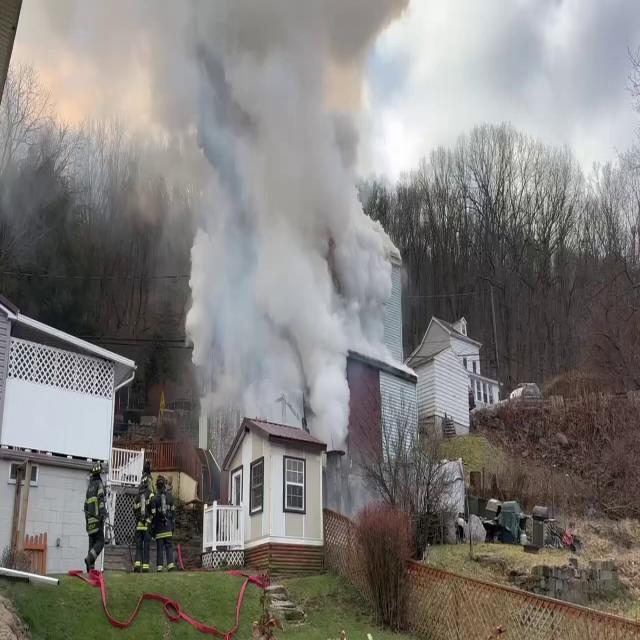Smoke: (168, 0, 405, 436)
